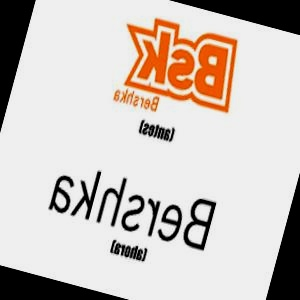bershka: (207, 76, 243, 230), (200, 0, 300, 3)
